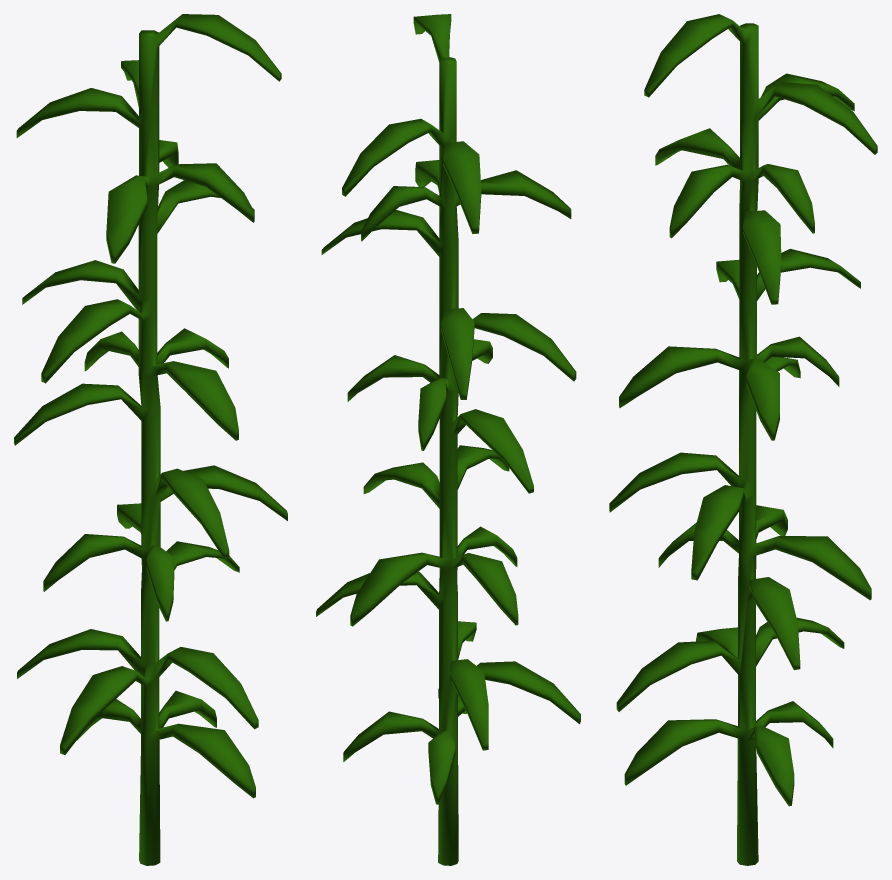
File: Kasvi_pitka1.fbx
The picture shows the model from 3 angles, left to right: view 1: azimuth 30°, elevation 25°; view 2: azimuth 150°, elevation 25°; view 3: azimuth 270°, elevation 25°; orthographic projection. The views are drawn at different scales.
Visible parts, largest first — view 1: LehtiKasvi.003; view 2: LehtiKasvi.003; view 3: LehtiKasvi.003.
Boxes of the visible parts, <box> form: LehtiKasvi.003: <box>14,14,287,865</box>; LehtiKasvi.003: <box>316,14,580,865</box>; LehtiKasvi.003: <box>609,14,877,865</box>.
Size of the model in its own units: 68.4 by 235 by 66.83.
